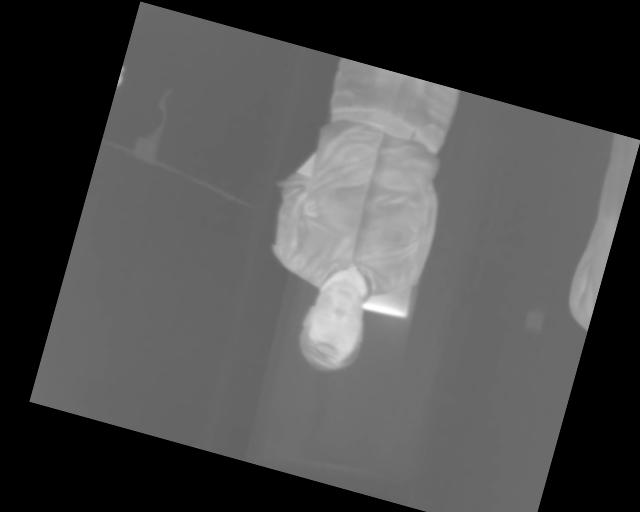face: (289, 273, 377, 380)
